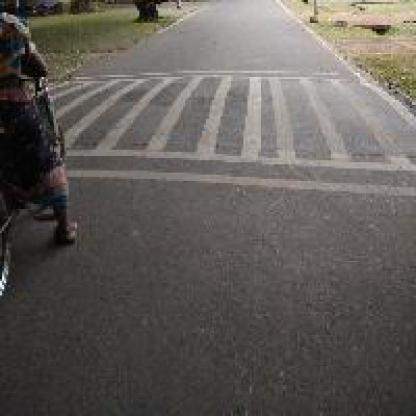Speed Bump: (70, 73, 410, 193)
